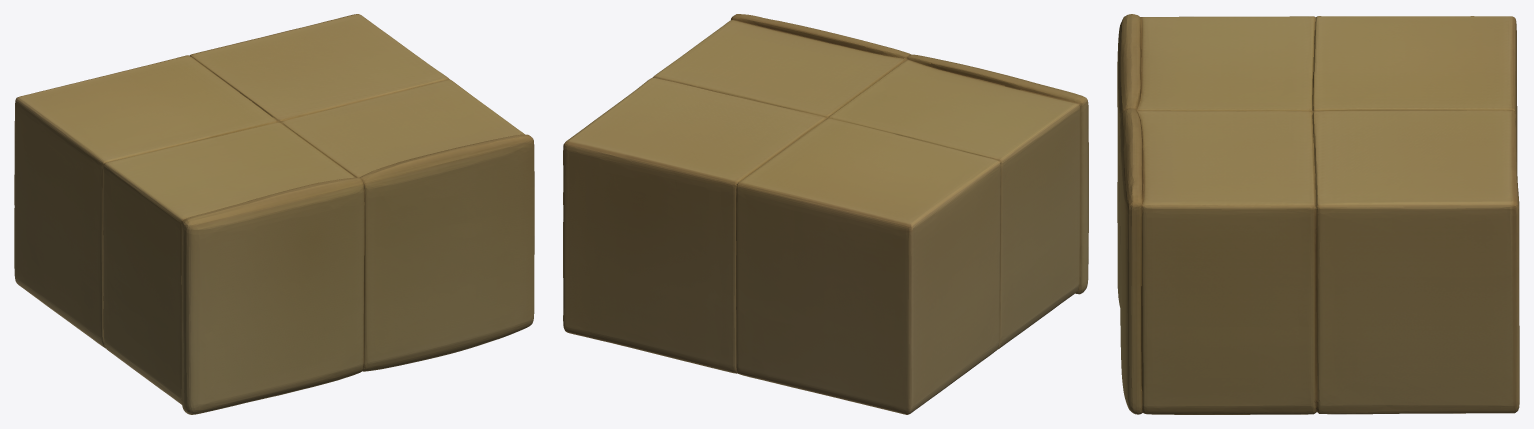
3 views of the same model, side by side, from view 1: azimuth 30°, elevation 25°; view 2: azimuth 150°, elevation 25°; view 3: azimuth 270°, elevation 25° (orthographic). The views are drawn at different scales.
Parts seen in each view (by area): view 1: world; view 2: world; view 3: world.
Boxes of the visible parts, bbox=[...] form: world: bbox=[14, 14, 534, 414]; world: bbox=[563, 14, 1088, 414]; world: bbox=[1117, 14, 1519, 414].
Size of the model in its own units: 0.9911 by 0.5447 by 0.8792.
1 material, 1 textured.
